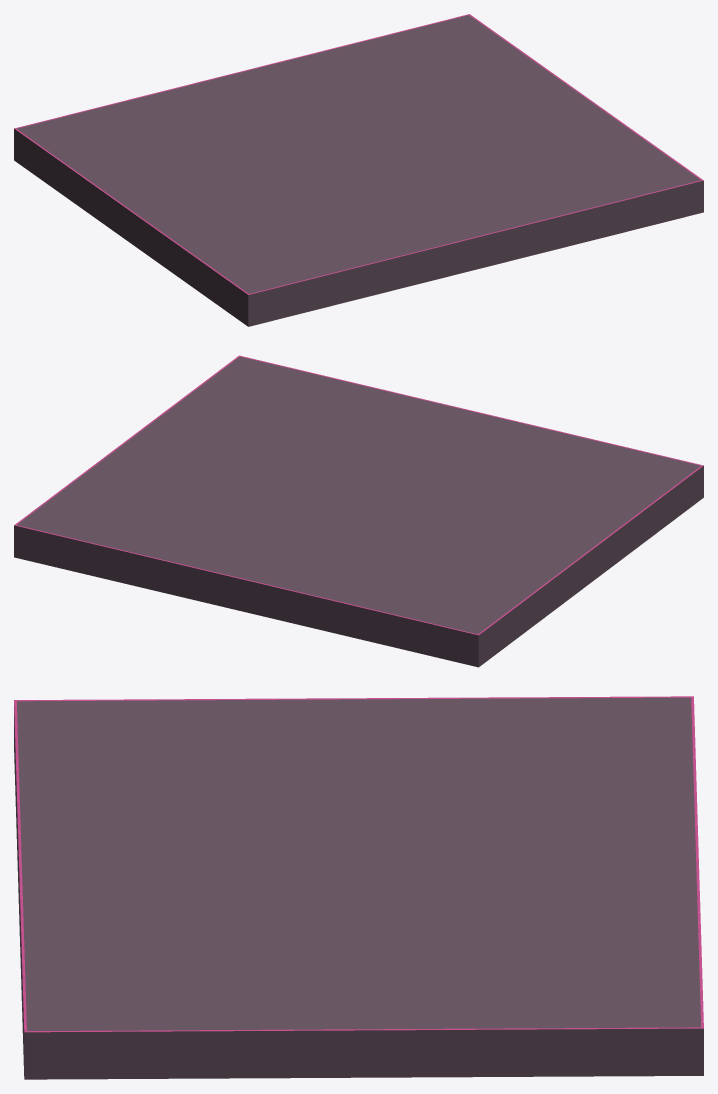
File: way-205654194.glb
3 views of the same model, one above another, from view 1: azimuth 30°, elevation 25°; view 2: azimuth 150°, elevation 25°; view 3: azimuth 270°, elevation 25° (orthographic). The views are drawn at different scales.
Parts seen in each view (by area): view 1: way-205654194; view 2: way-205654194; view 3: way-205654194.
Part boxes in pixels (x1,y1,x2,y2): way-205654194: (14,14,703,326); way-205654194: (14,355,703,667); way-205654194: (14,696,703,1079).
Size of the model in its own units: 45.68 by 3 by 39.65.
